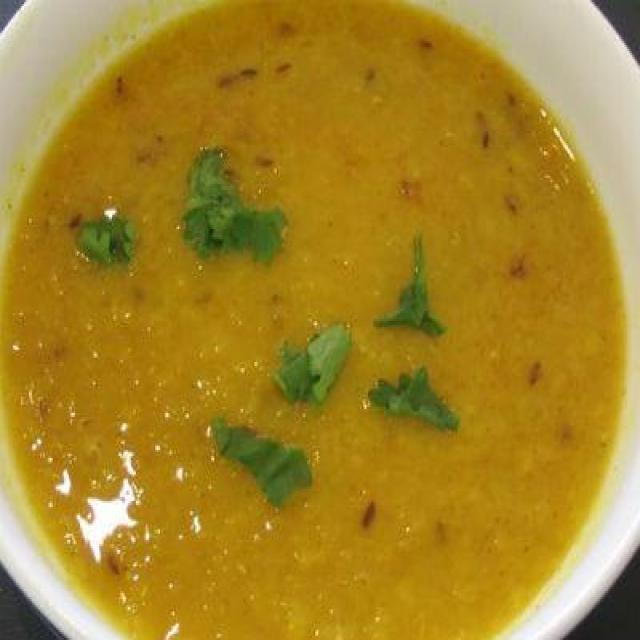dal: (0, 0, 624, 638)
